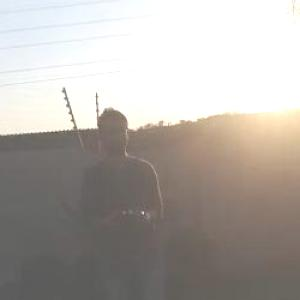follow: (79, 98, 173, 299)
